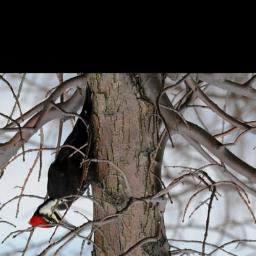Woodpecker: (28, 79, 102, 233)
